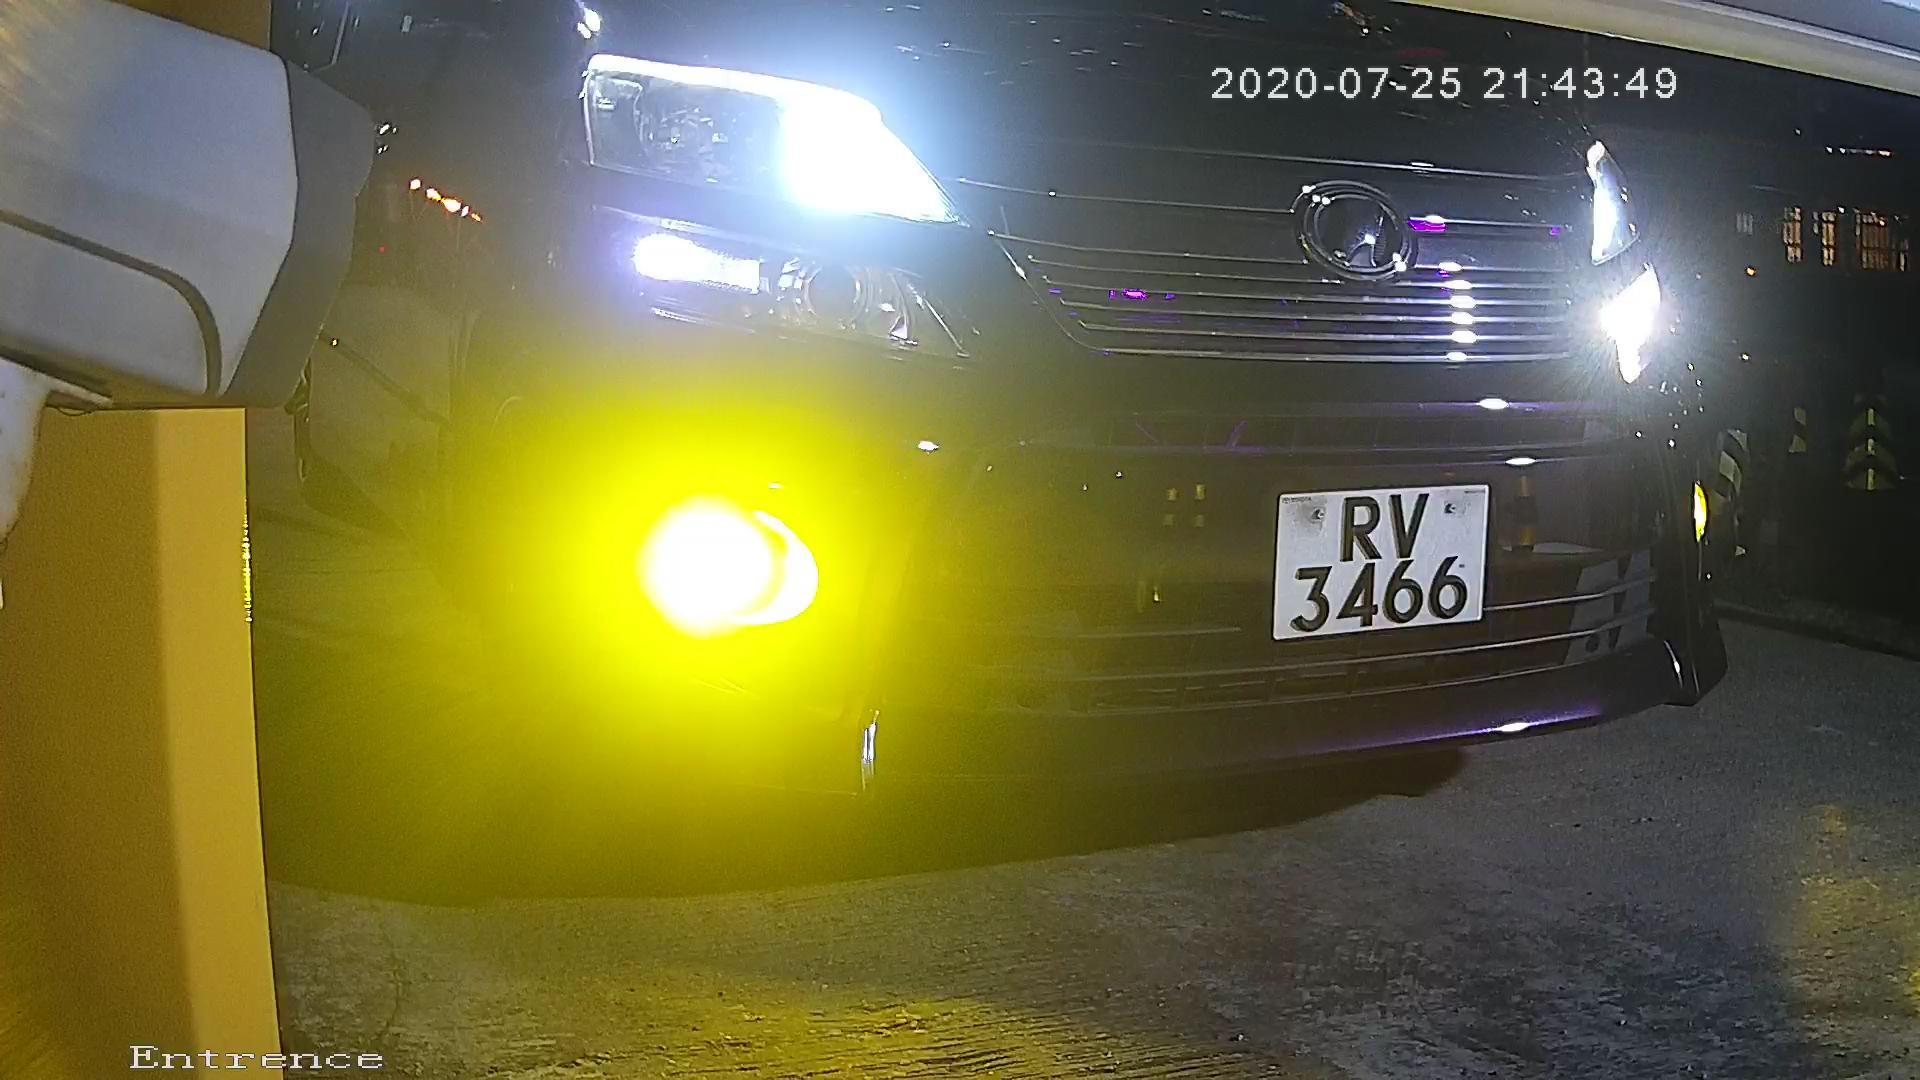privatecar: (421, 1, 1716, 839)
